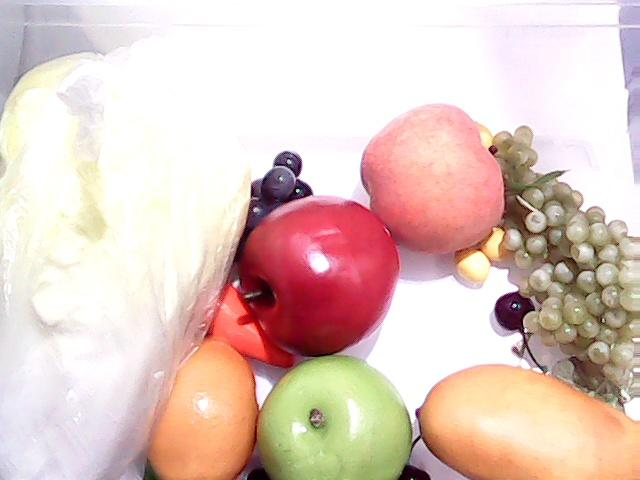apple: (235, 192, 402, 361), (252, 358, 416, 480)
carrot: (207, 283, 313, 370)
grape: (502, 140, 640, 388), (257, 146, 319, 204)
lemon: (144, 328, 294, 480)
mango: (418, 360, 640, 480)
napa cabbage: (2, 49, 226, 480)
peach: (358, 103, 506, 253)
